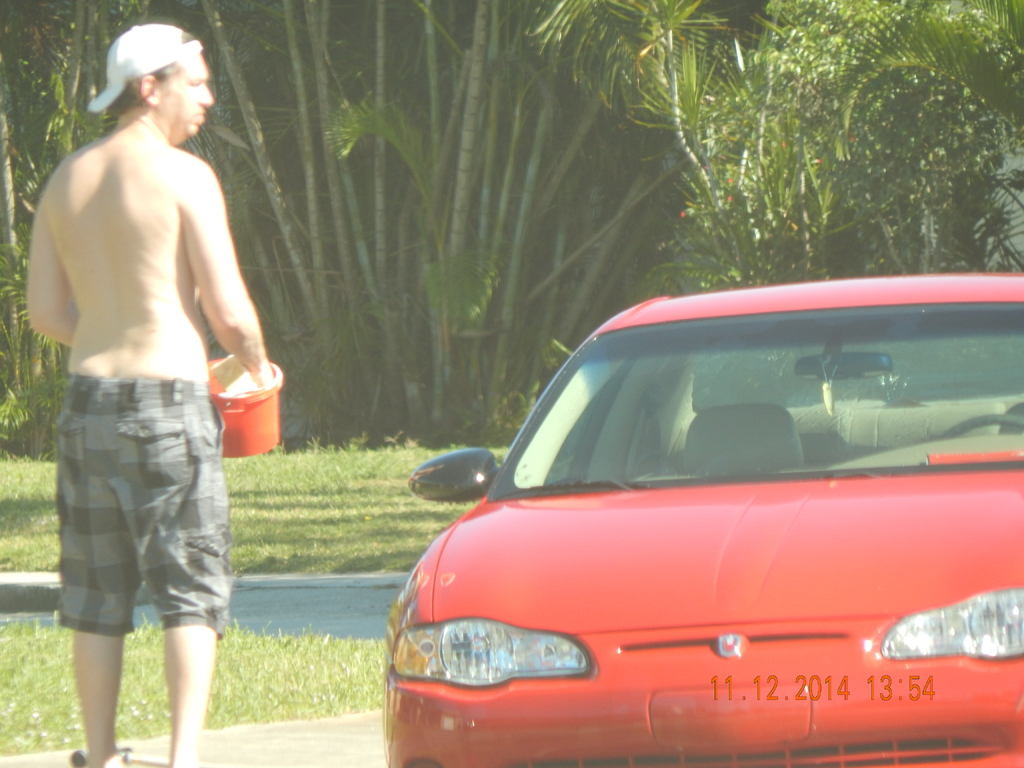Car: (384, 268, 1023, 767)
